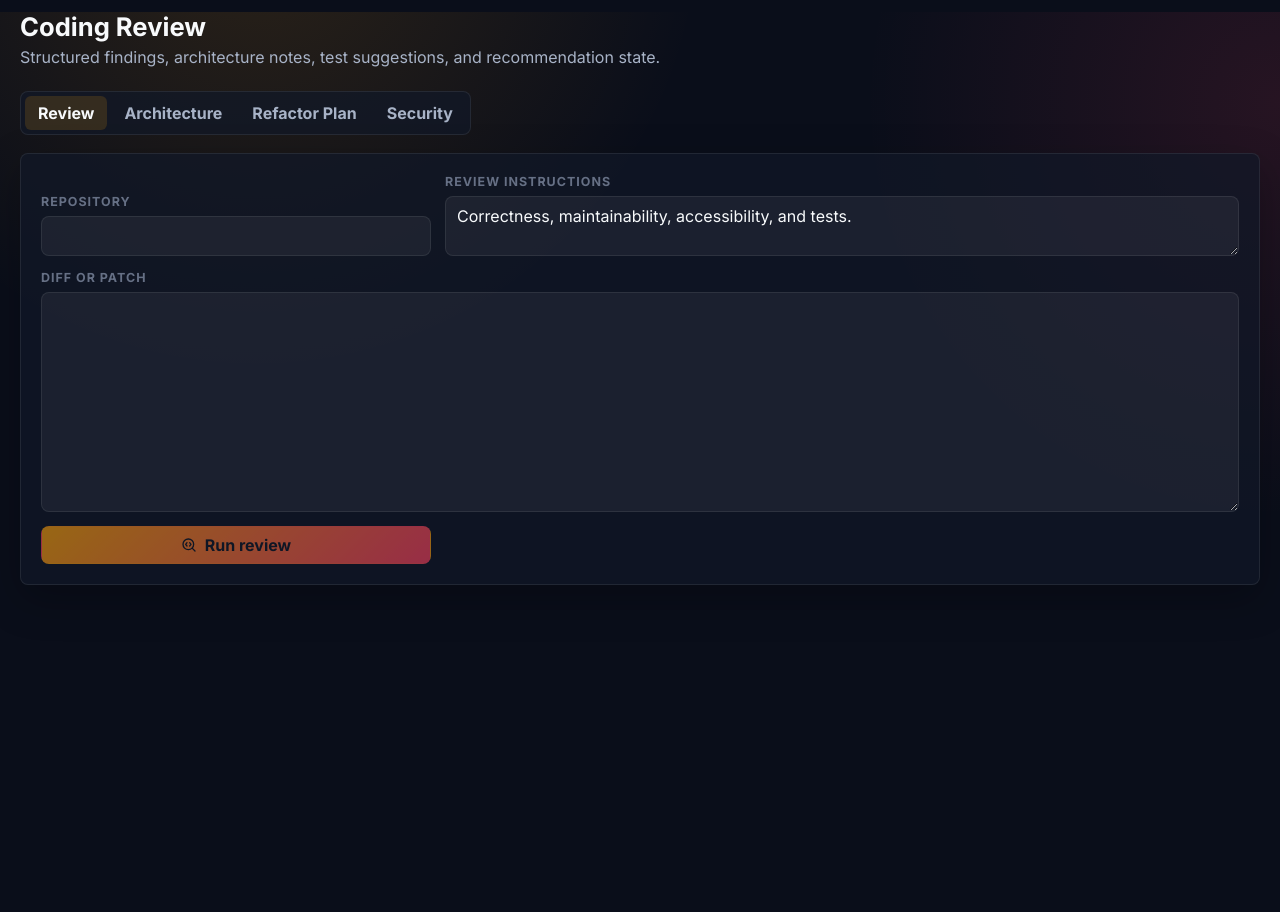
it: PR3 tool pages › validates coding input and shows submit failure state
This screenshot has width=1280, height=912.
Expected: the button "Run review" is disabled, [41,526,431,564]
Type "diff --git a/file.ts b/file.ts" into the text box labelled "Diff or patch" at (640, 402), box [41,292,1239,512]
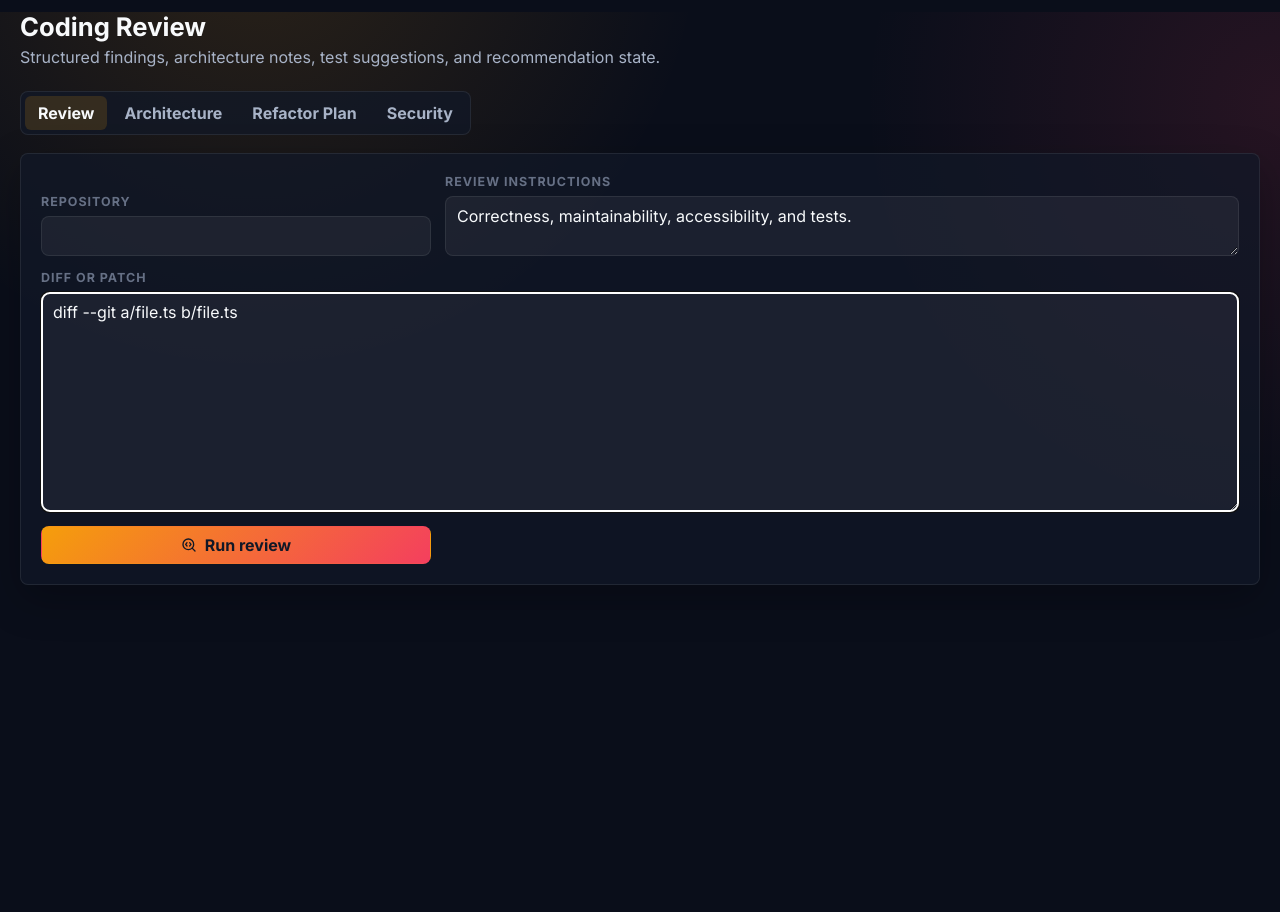
Click the button "Run review" at (236, 545), box [41,526,431,564]
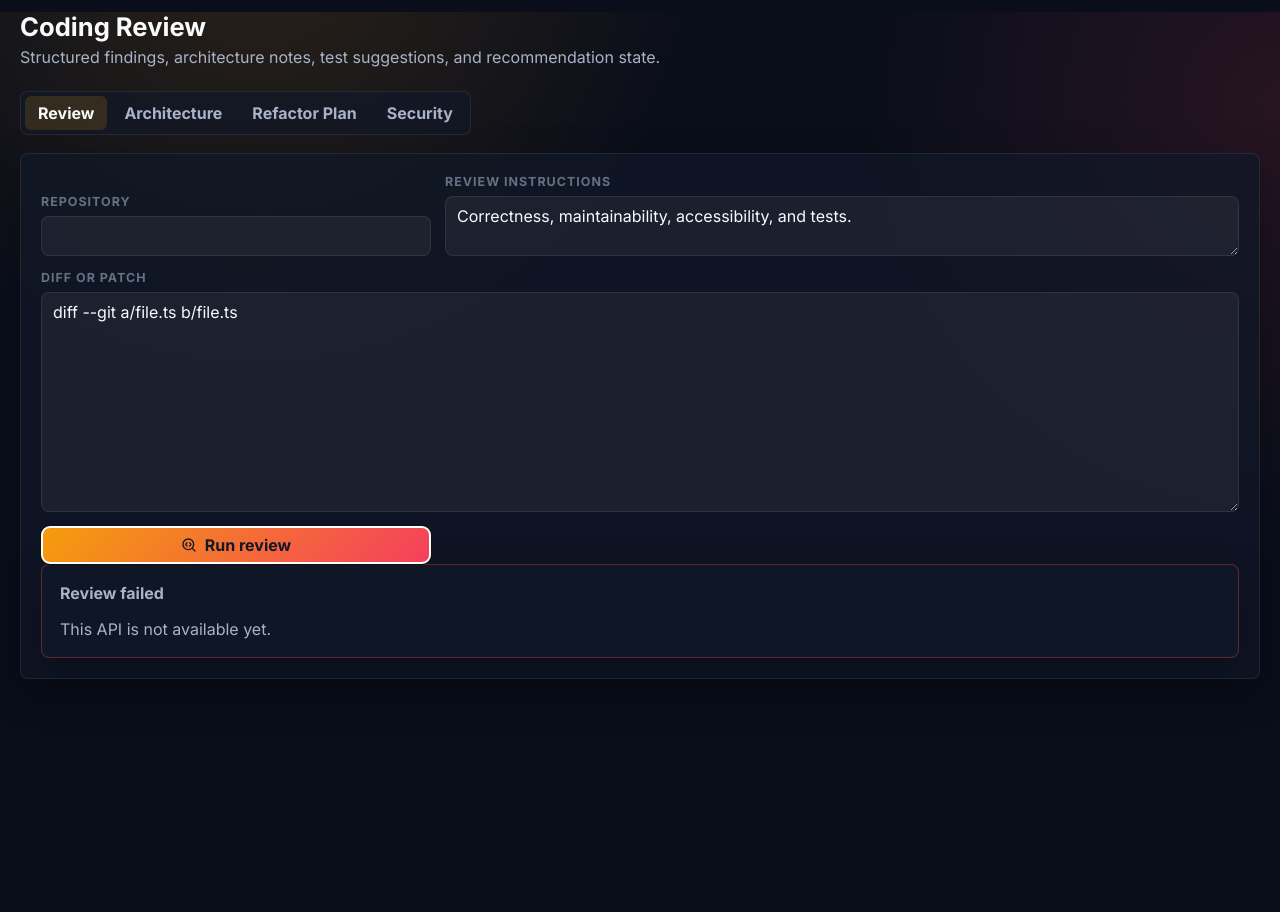
Now the heading "Review failed" is shown, box [60,583,164,603]
Now the text "This API is not available yet." is shown, box [60,619,271,639]
